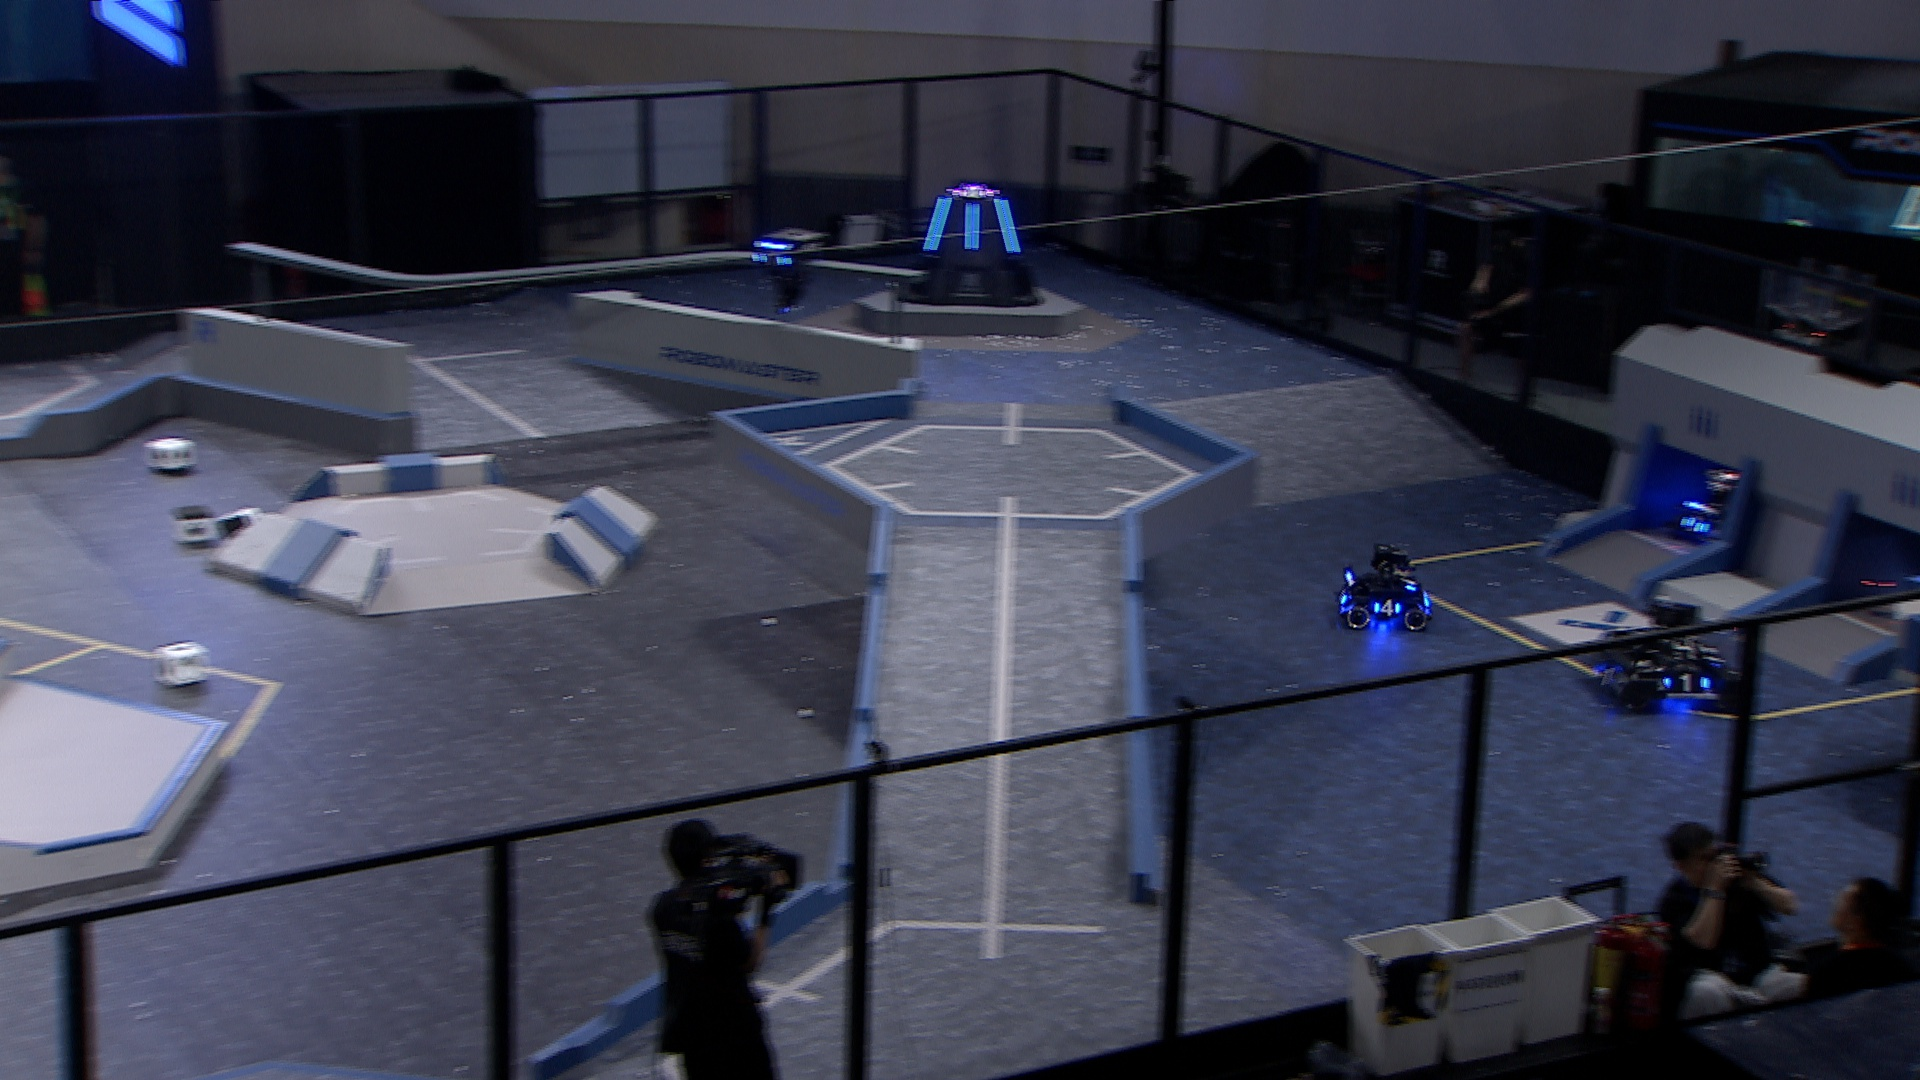armor: (920, 195, 951, 251), (992, 199, 1021, 253), (1662, 673, 1712, 695), (961, 200, 982, 251), (1589, 662, 1622, 688), (1371, 599, 1403, 618), (752, 252, 793, 266), (1679, 517, 1712, 534), (1399, 572, 1416, 591)
base: (887, 175, 1048, 309)
car: (1576, 593, 1751, 713), (1333, 538, 1437, 633), (1669, 471, 1762, 546)
ignore: (949, 186, 1000, 200)
watcher: (749, 225, 835, 318)
